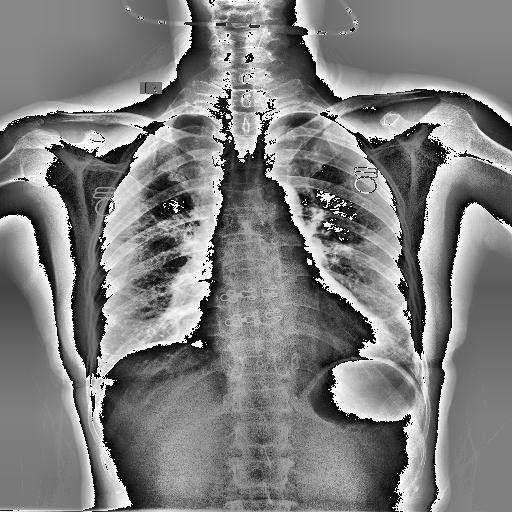0- Aortic enlargement: (247, 182, 305, 232), (250, 178, 304, 228), (257, 178, 304, 234)
3- Cardiomegaly: (187, 301, 388, 354), (196, 302, 390, 355), (198, 303, 392, 355)
